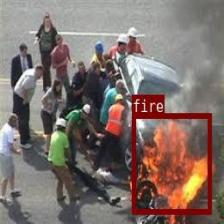fire: (132, 113, 210, 213)
